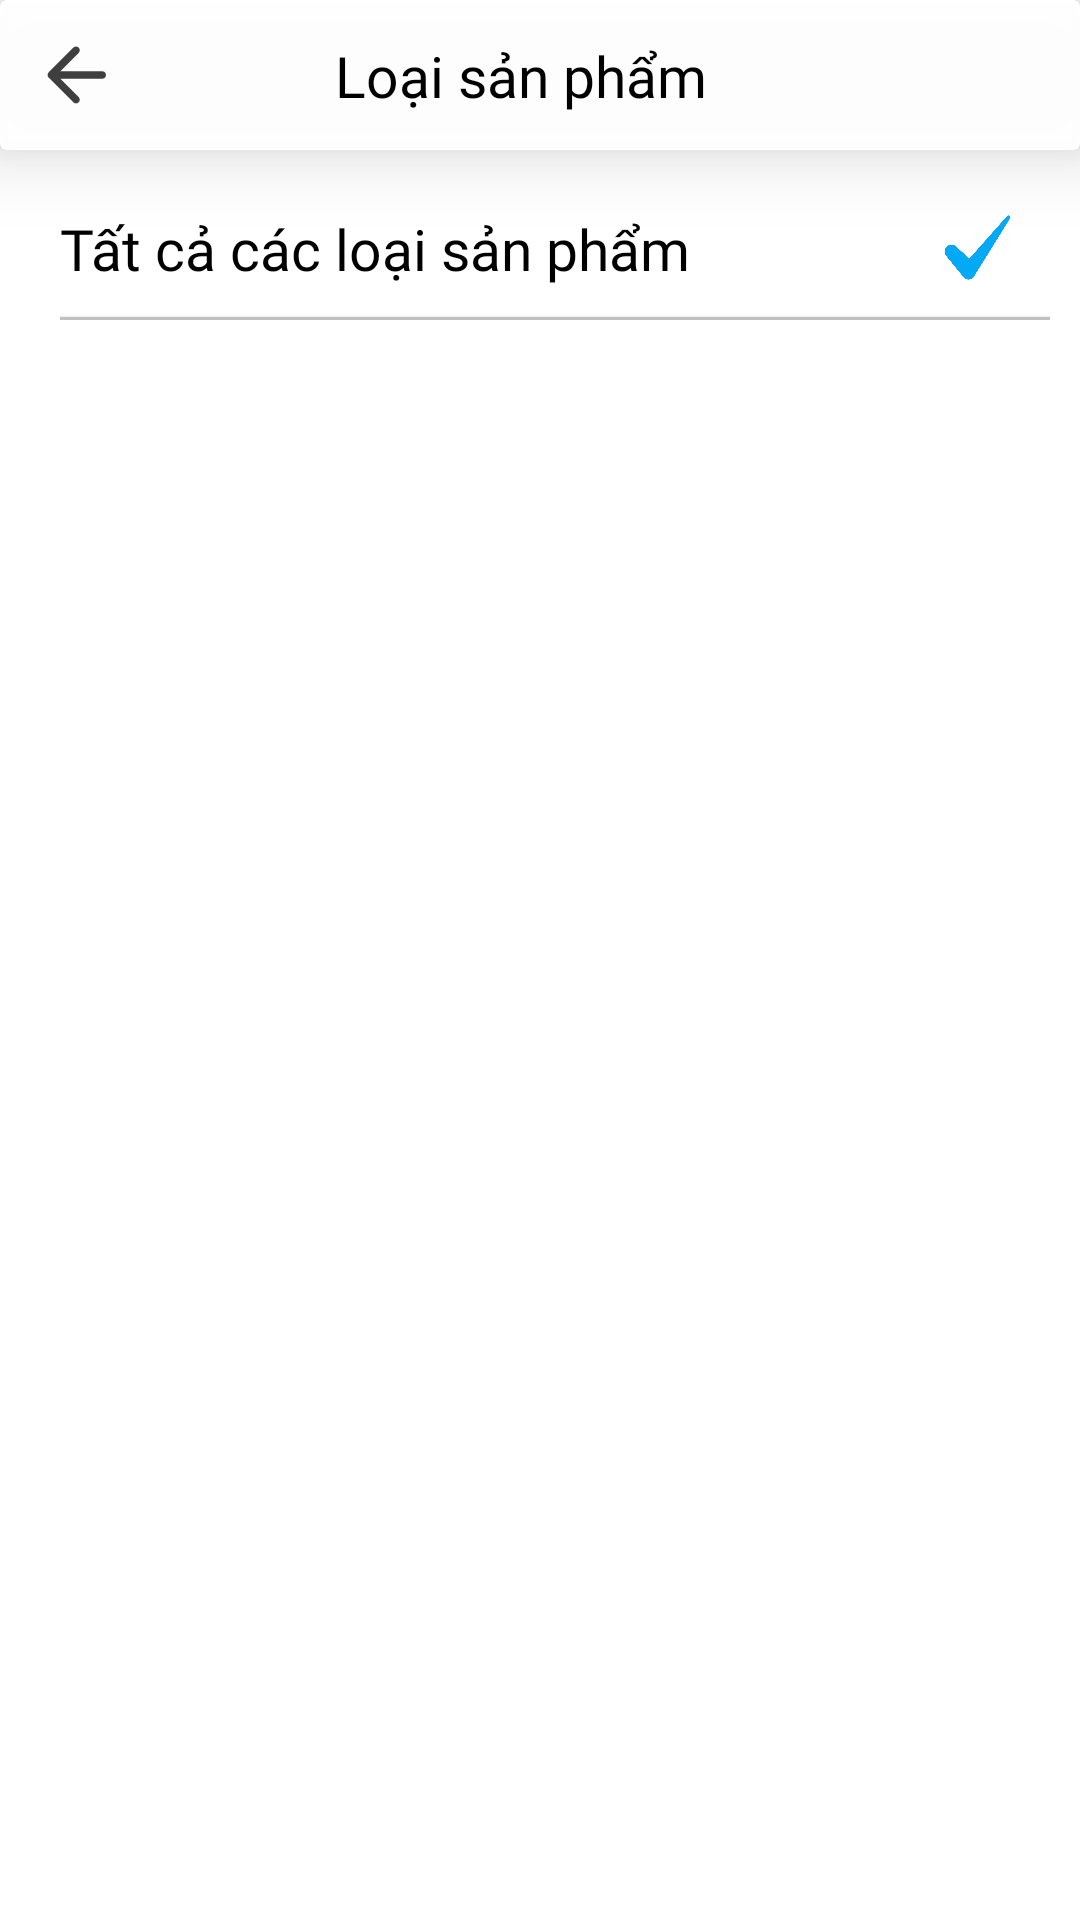

Where to tap for icons on this 1080px x 1920px app screen, as (x=x, y=y):
arrow back: (x=76, y=75)
check type: (x=977, y=247)
